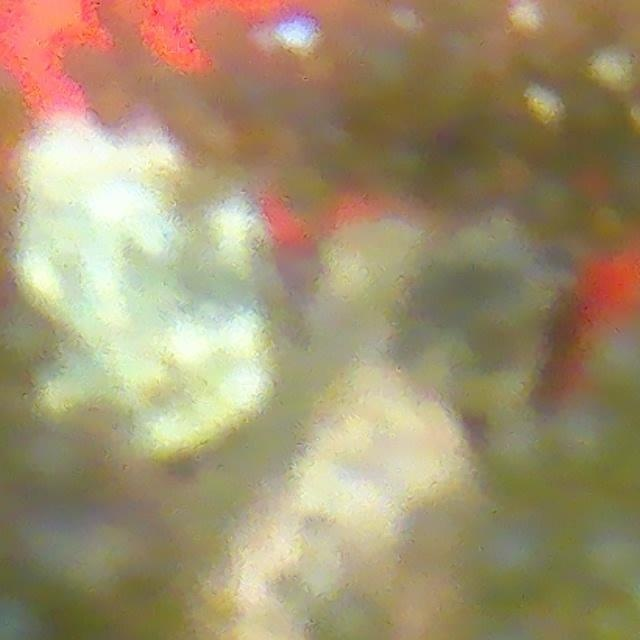SeaGrape: (577, 518, 640, 577), (498, 421, 556, 481), (472, 533, 530, 587)
